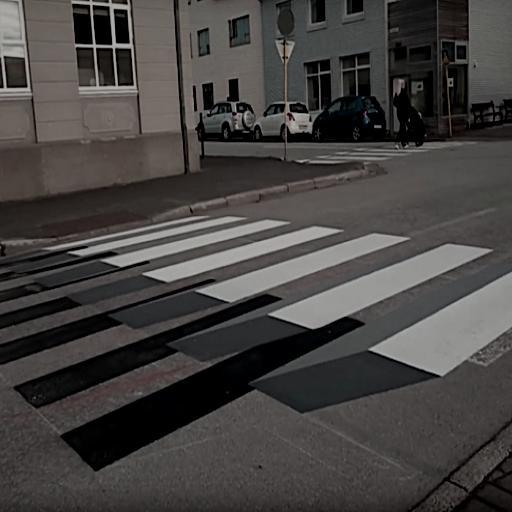crosswalk: (138, 222, 420, 306)
